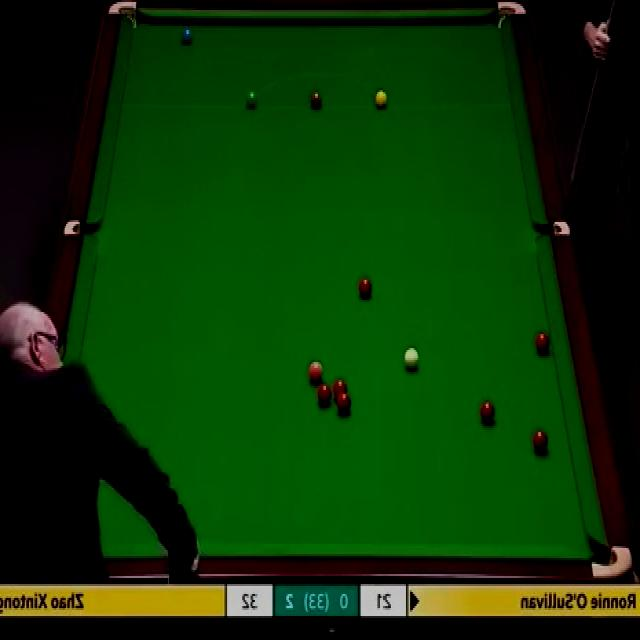blue-ball: (182, 27, 192, 48)
brown-ball: (310, 92, 323, 109)
green-ball: (244, 88, 258, 112)
pink-ball: (308, 359, 324, 383)
red-ball: (534, 330, 552, 356), (316, 383, 332, 407), (533, 430, 550, 451), (333, 378, 347, 402), (482, 401, 496, 425), (358, 278, 374, 297), (337, 392, 351, 413)
white-ball: (403, 346, 418, 370)
yellow-ball: (374, 89, 388, 110)
